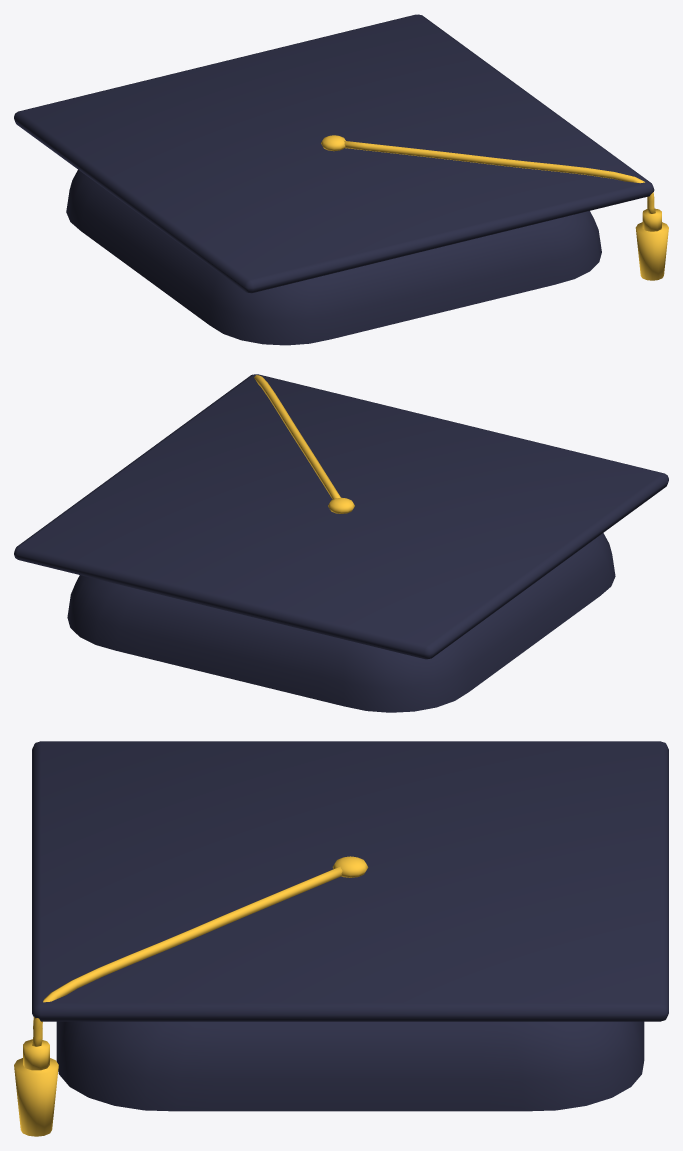
The model's file is grad_cap.glb.
The picture shows the model from 3 angles, top to bottom: view 1: azimuth 30°, elevation 25°; view 2: azimuth 150°, elevation 25°; view 3: azimuth 270°, elevation 25°; orthographic projection. The views are drawn at different scales.
Parts seen in each view (by area): view 1: board, skull, cord, tassel; view 2: board, skull, cord; view 3: board, skull, cord, tassel, knot.
Part boxes in pixels (box(x1,y1,x2,y2)): board: box(14, 14, 654, 293); skull: box(66, 170, 601, 345); cord: box(344, 141, 655, 213); tassel: box(635, 222, 668, 280); board: box(14, 374, 668, 659); skull: box(67, 533, 615, 712); cord: box(254, 375, 340, 499); board: box(32, 741, 668, 1021); skull: box(56, 1021, 644, 1111); cord: box(32, 866, 342, 1046); tassel: box(14, 1058, 58, 1136); knot: box(23, 1039, 49, 1070).
Bounding box in the file's own units: 1.46 × 0.34 × 1.46.
